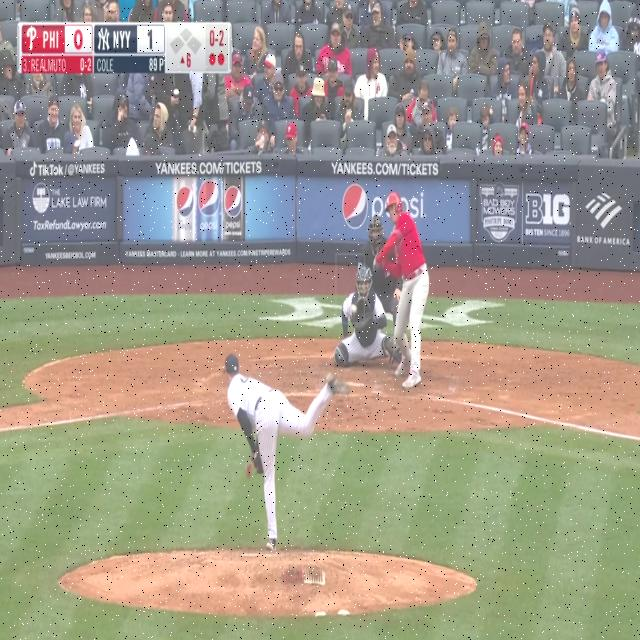baseball: (350, 304, 357, 314)
